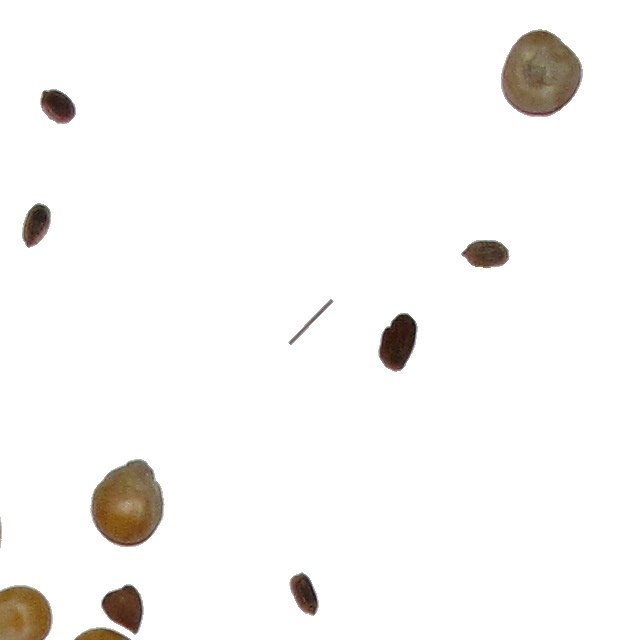buckwheat: (377, 312, 419, 373), (100, 583, 145, 636), (460, 239, 511, 269), (288, 571, 320, 617), (21, 202, 52, 249), (39, 88, 77, 125)
dill: (287, 298, 335, 346)
mais: (500, 28, 584, 118), (89, 458, 166, 548), (64, 626, 164, 640)
